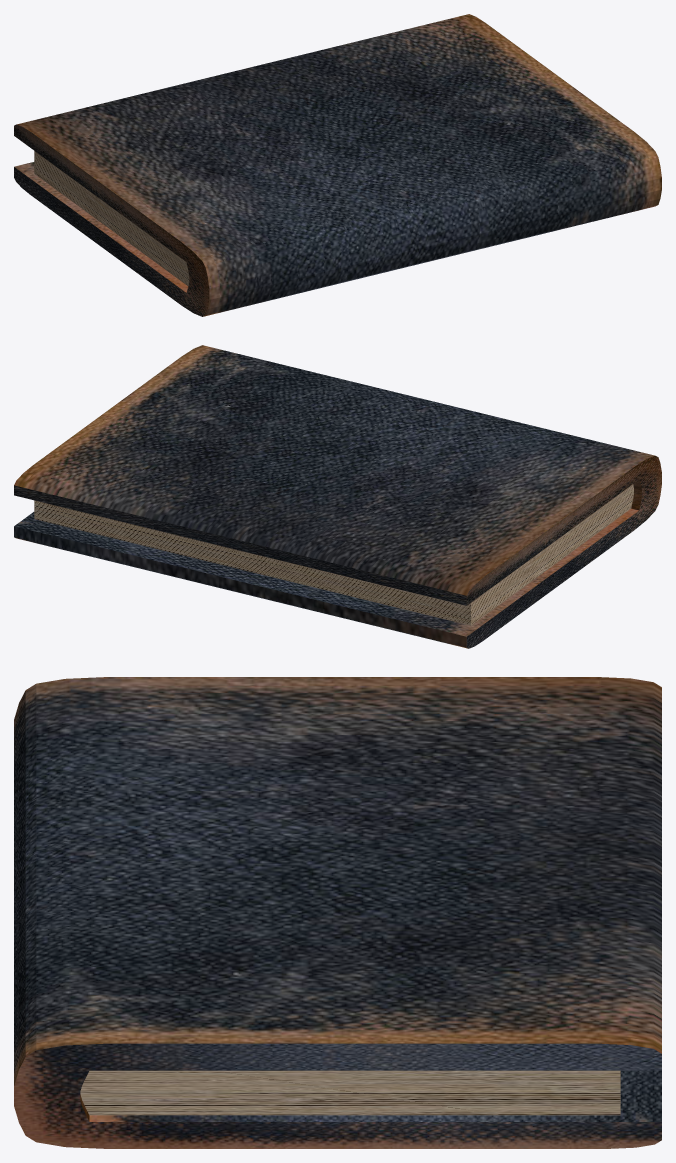
The model's file is libro_negro.fbx.
The picture shows the model from 3 angles, top to bottom: view 1: azimuth 30°, elevation 25°; view 2: azimuth 150°, elevation 25°; view 3: azimuth 270°, elevation 25°; orthographic projection. The views are drawn at different scales.
Parts seen in each view (by area): view 1: libro_negro; view 2: libro_negro; view 3: libro_negro.
Boxes of the visible parts, x1,y1,x2,y2 form: libro_negro: (14,14,661,316); libro_negro: (14,345,661,648); libro_negro: (14,677,661,1148).
Bounding box in the file's own units: 29.13 × 3.9 × 21.76.
